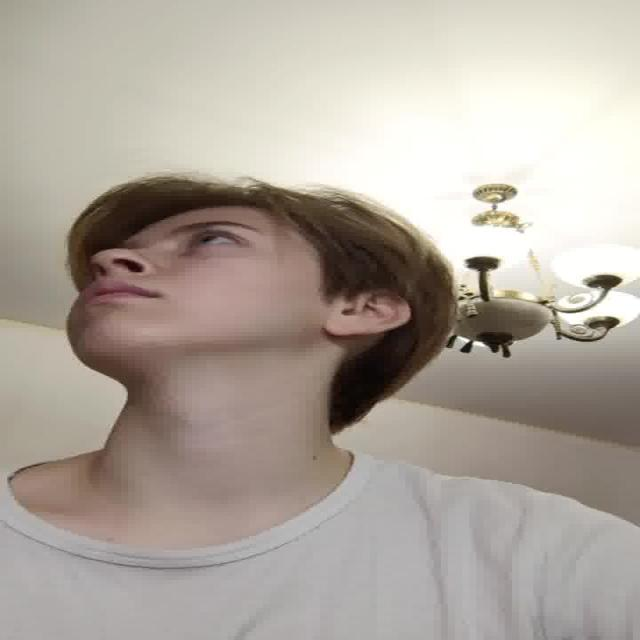earlobe: (326, 288, 412, 335)
